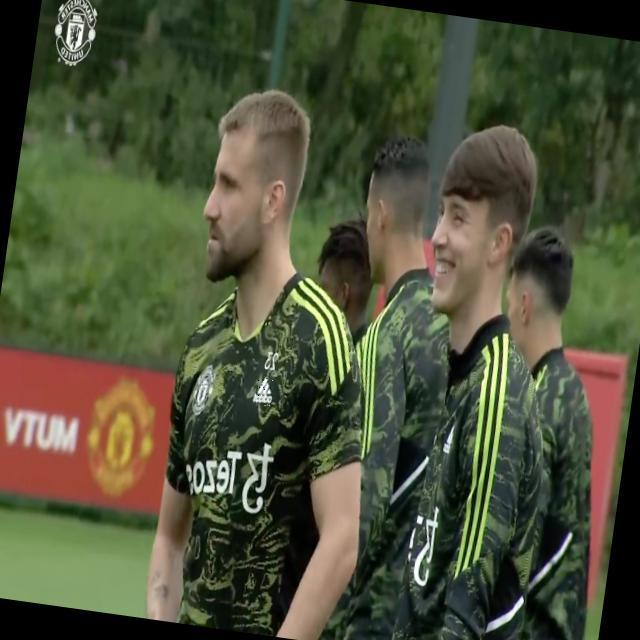Adidas: (253, 373, 274, 407)
